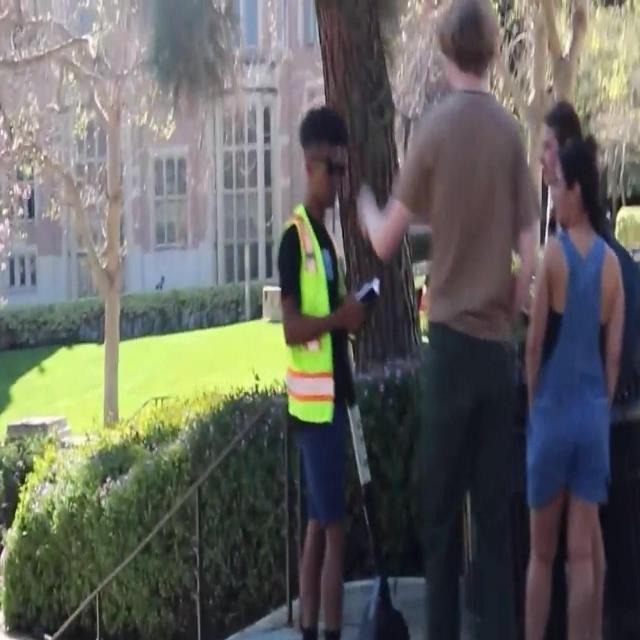reflective_jacket: (400, 92, 532, 371), (264, 199, 361, 444)
